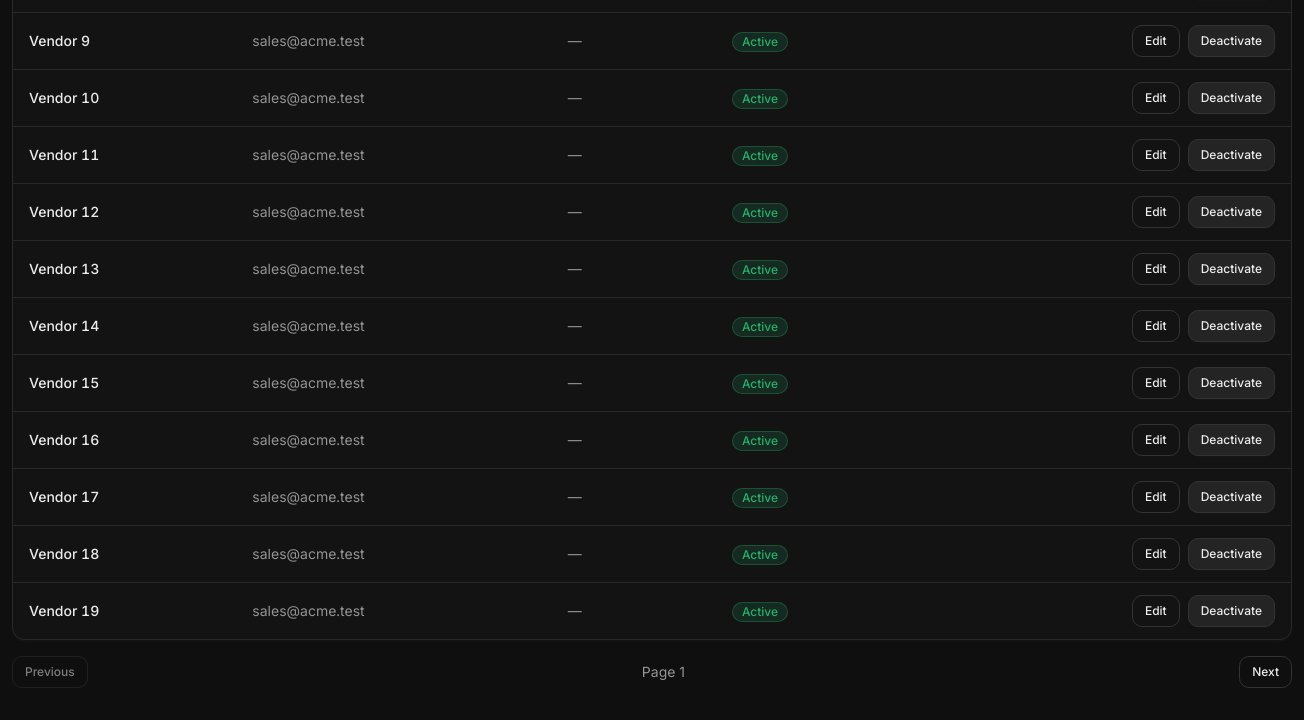
Test case: SuppliersPanel edit and list flows › searches and paginates
(page scrolled)
Expected: the cell "Vendor 19" is shown, [13,582,236,639]
Click the button "Next": x=1266, y=672 [1239,656,1292,688]
(page scrolled)
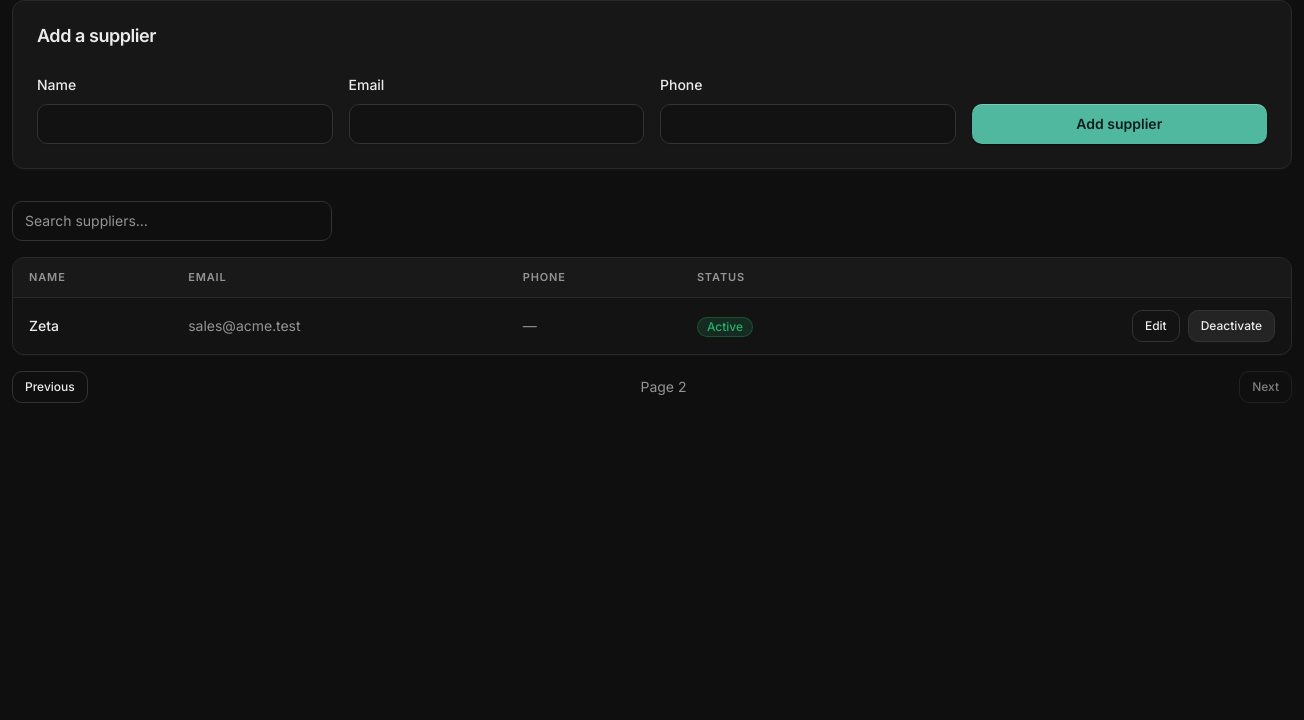
Expected: the cell "Zeta" is shown, [13,298,172,354]
Expected: the text "Page 2" is shown, [640,377,686,397]
Expected: the button "Next" is disabled, [1239,371,1292,403]
Click the button "Previous": x=50, y=387 [12,371,88,403]
(page scrolled)
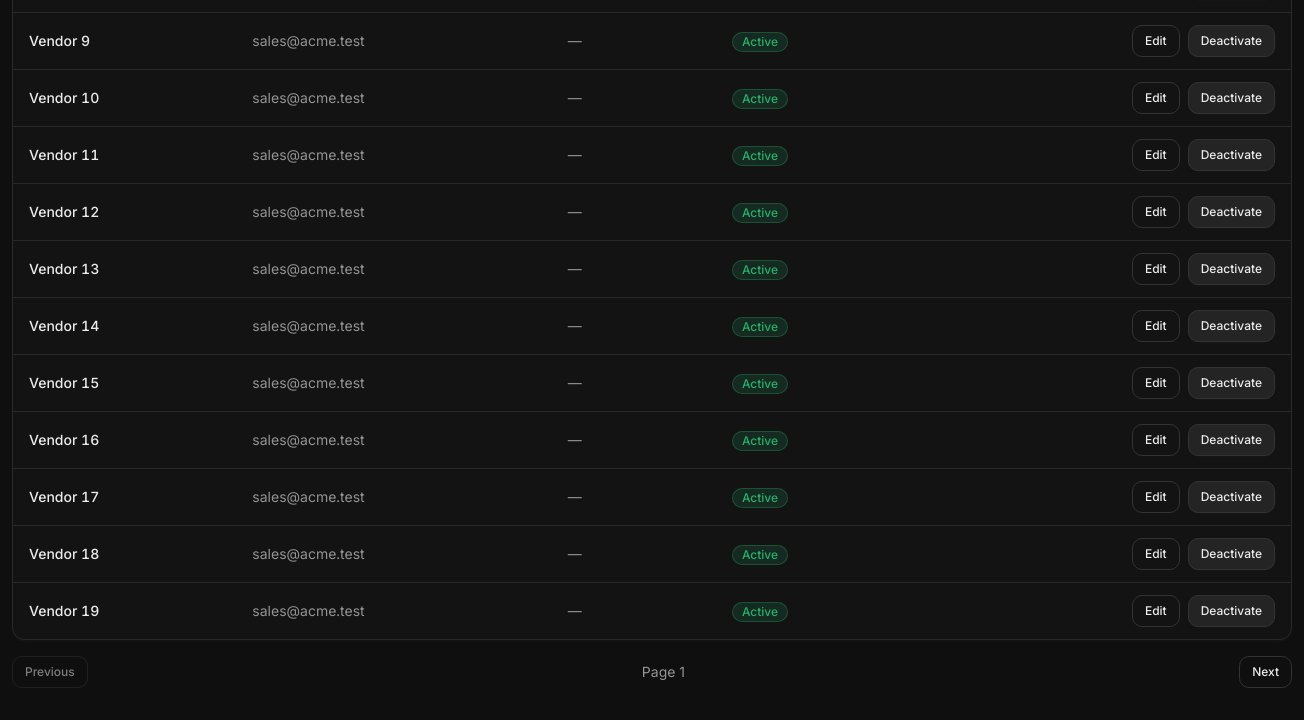
Expected: the text "Page 1" is shown, [642,662,685,682]
Click the button "Next": x=1266, y=672 [1239,656,1292,688]
(page scrolled)
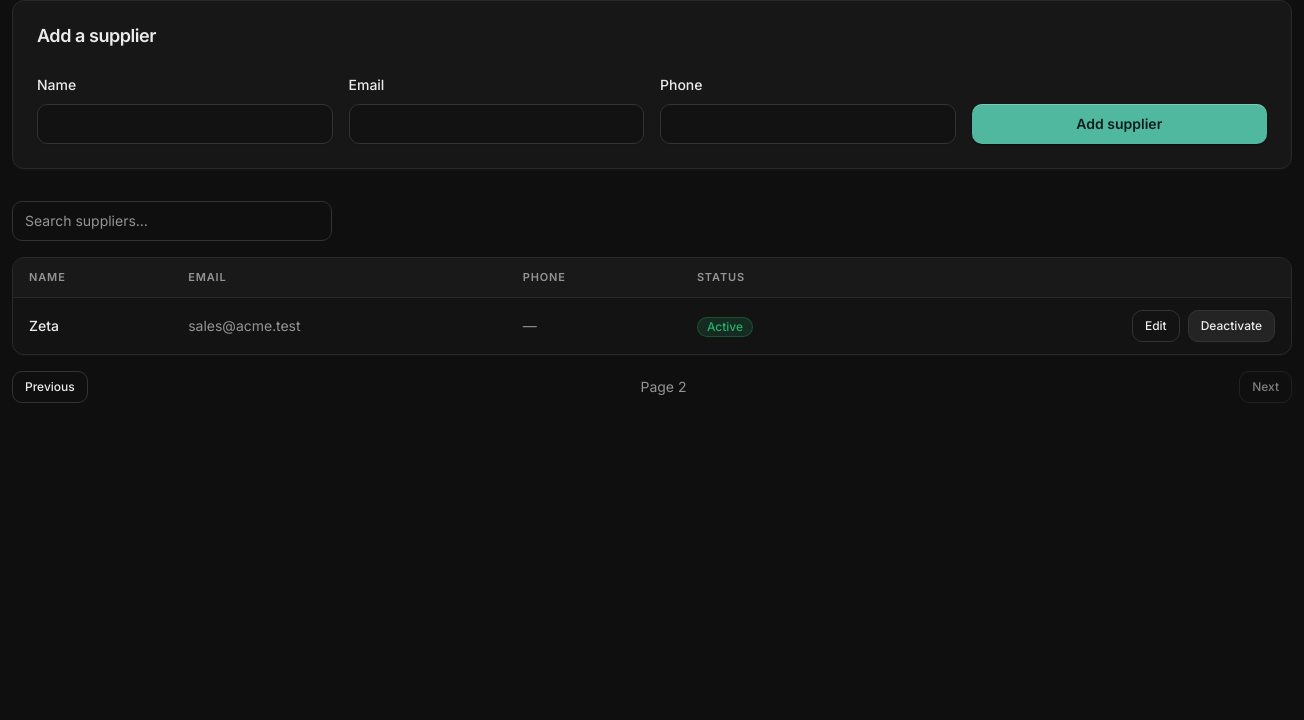
Expected: the text "Page 2" is shown, [640,377,686,397]
In the field with placeholder "Search suppliers…": x=172, y=220 [12,200,332,240], type "ac"
(page scrolled)
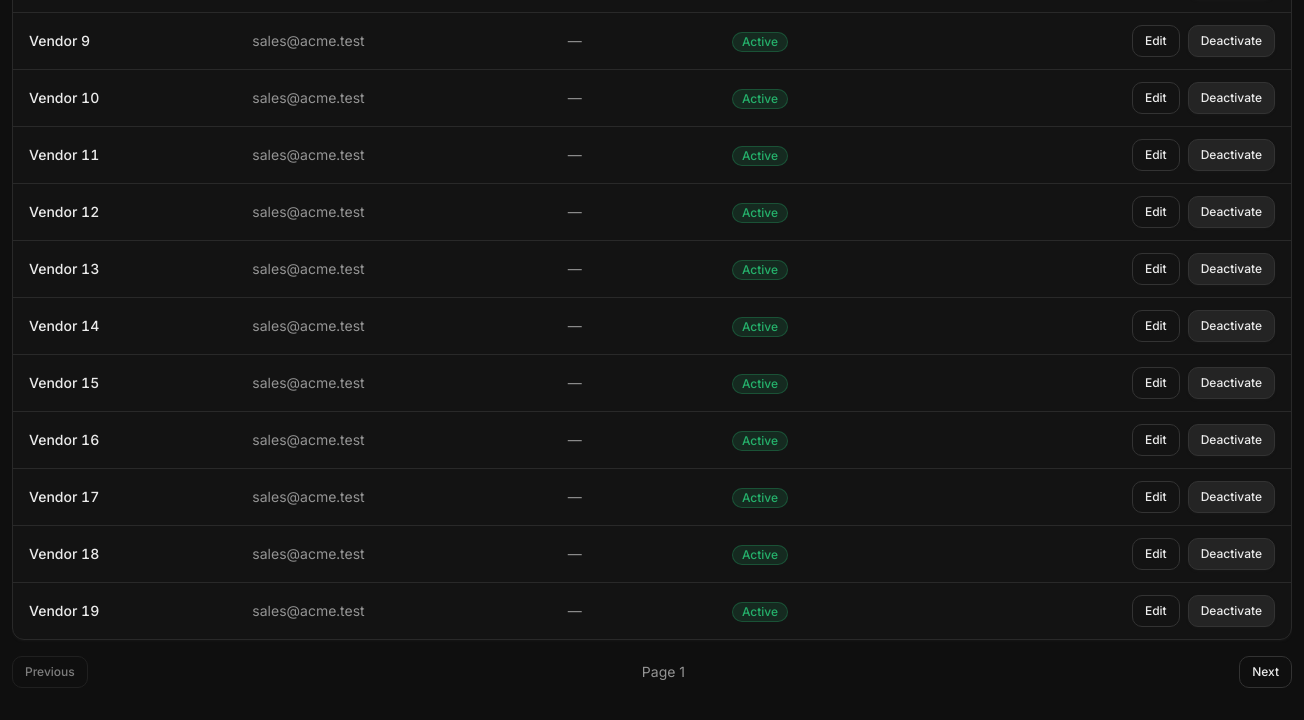
Expected: the text "Page 1" is shown, [642,662,685,682]
